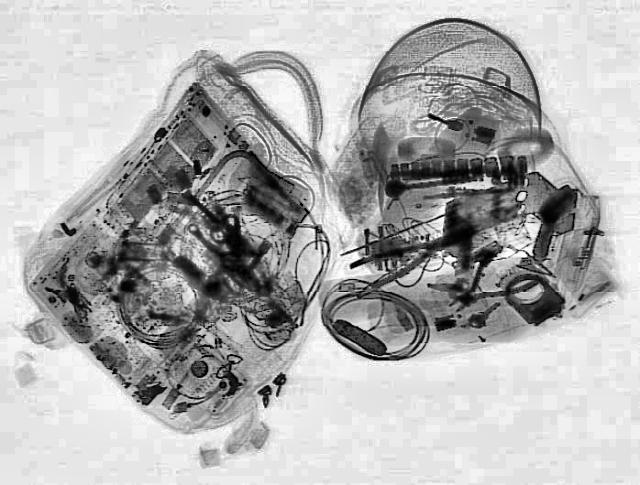Pliers: (427, 247, 541, 326), (346, 223, 468, 290)
